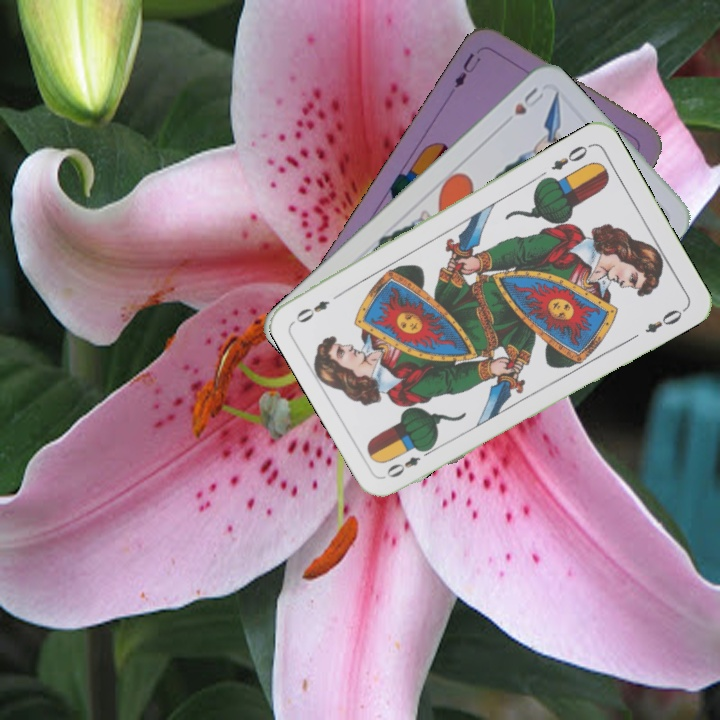EO: (382, 443, 436, 481), (547, 140, 594, 173)
EU: (450, 49, 484, 91)
HU: (510, 83, 547, 118)
